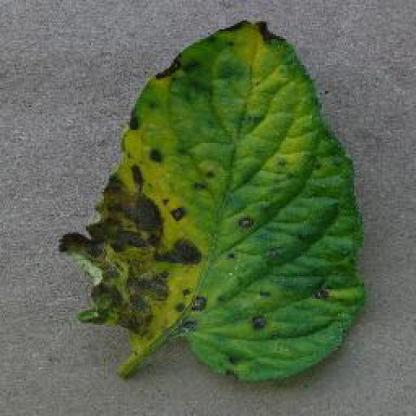Tomato_Blight: (57, 20, 368, 382)
